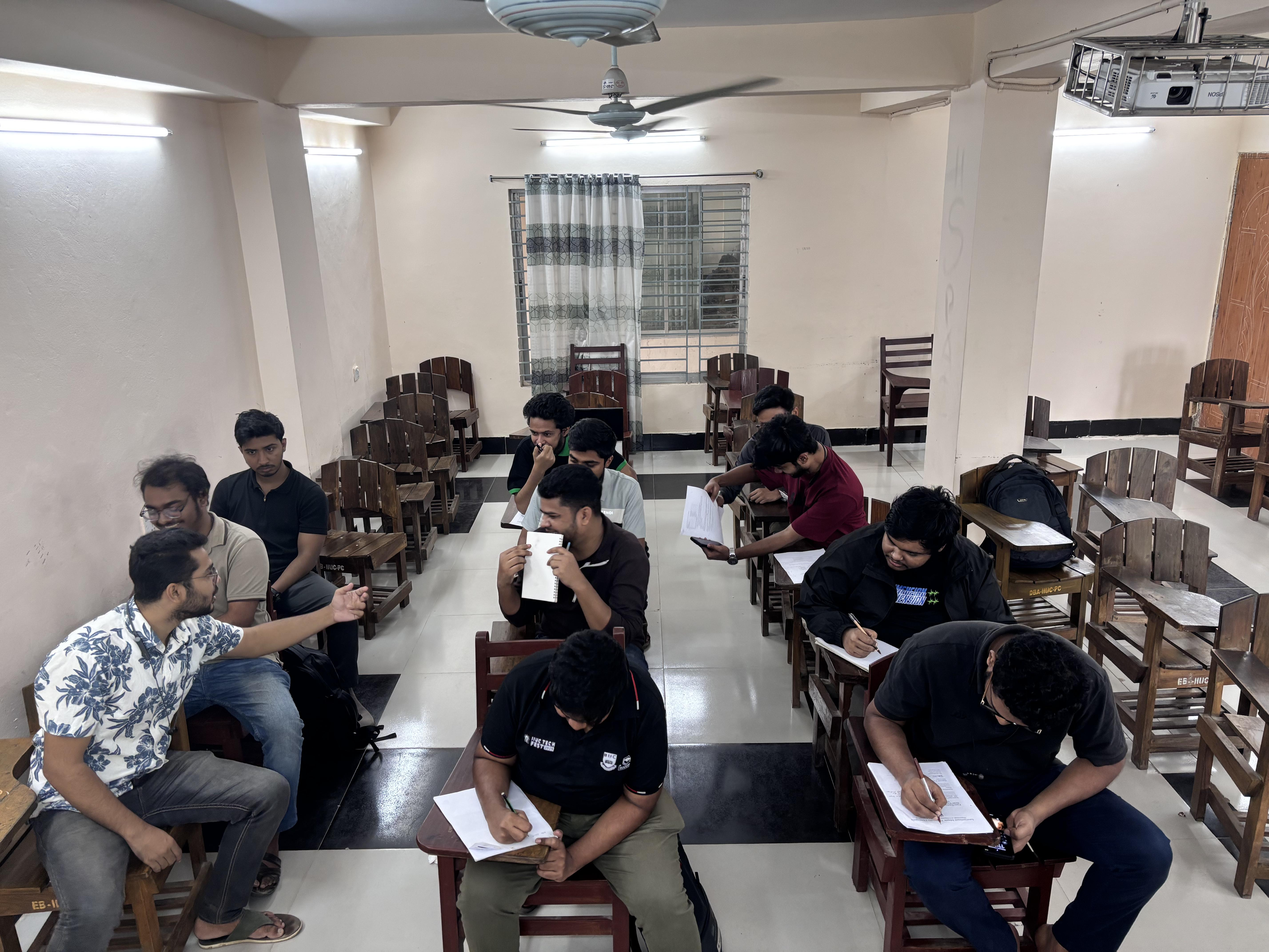copying: (798, 480, 1024, 666)
exchanging_sheets: (678, 388, 880, 571)
no_cheating: (428, 622, 722, 952), (129, 453, 308, 798)
side_talking: (31, 514, 374, 952), (491, 466, 659, 631), (560, 420, 651, 531)
suspicious_moving: (218, 412, 332, 601), (514, 390, 579, 466)
using_phone: (861, 606, 1171, 952)
